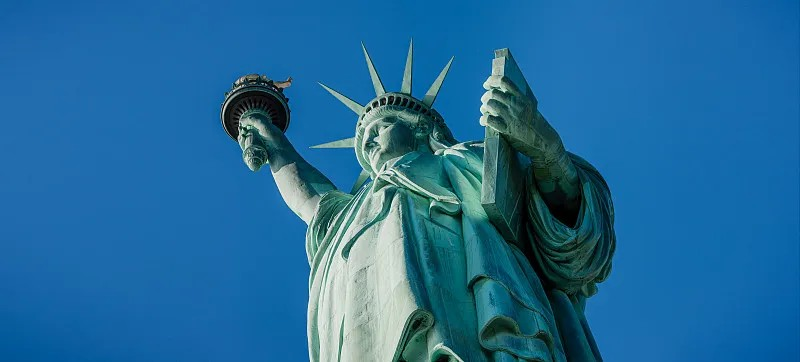SL: (220, 37, 617, 362)
